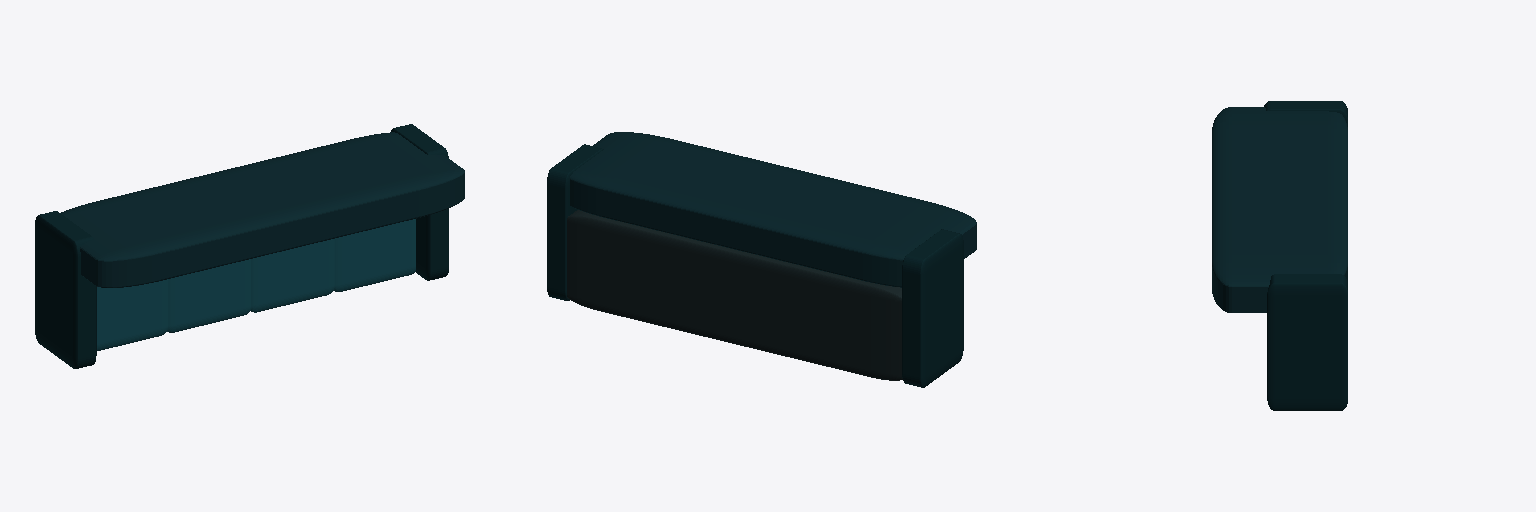
The model's file is item_blue_couch.obj.
The picture shows the model from 3 angles: view 1: azimuth 30°, elevation 25°; view 2: azimuth 150°, elevation 25°; view 3: azimuth 270°, elevation 25°; orthographic projection.
Visible parts, largest first — view 1: obj_0; view 2: obj_0; view 3: obj_0.
Boxes of the visible parts, box(x1,y1,x2,y2) form: obj_0: box(35, 124, 464, 368); obj_0: box(547, 132, 976, 387); obj_0: box(1212, 101, 1347, 410).
Bounding box in the file's own units: 86 × 28 × 27.